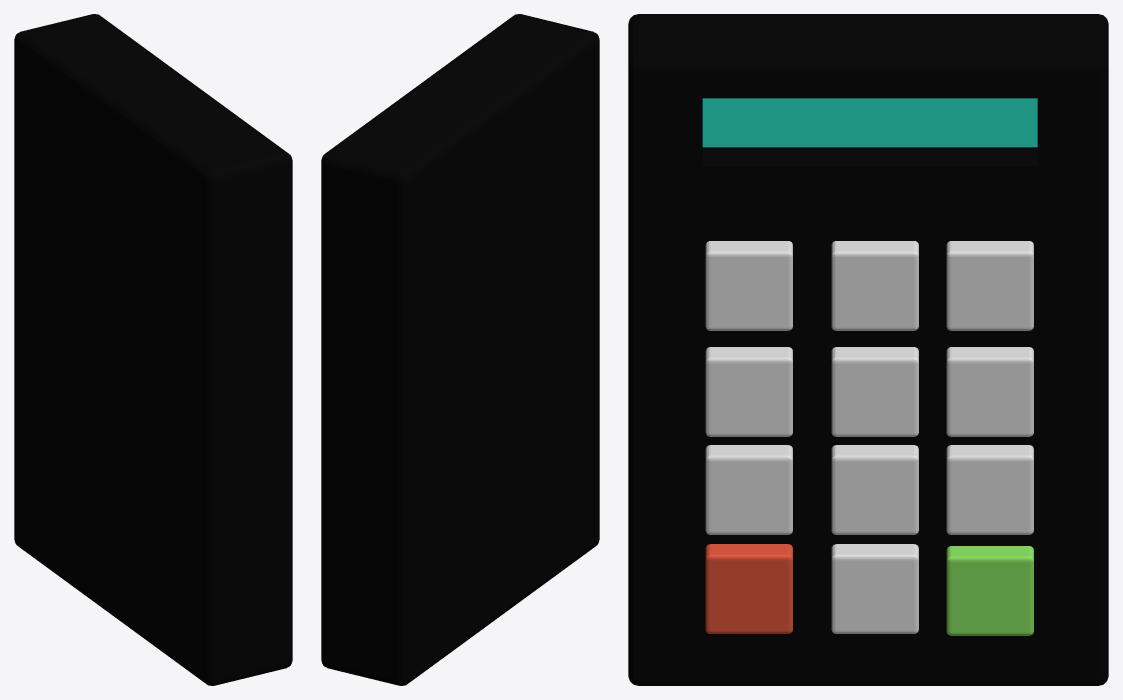
File: NumLock.fbx
The picture shows the model from 3 angles, left to right: view 1: azimuth 30°, elevation 25°; view 2: azimuth 150°, elevation 25°; view 3: azimuth 270°, elevation 25°; orthographic projection. The views are drawn at different scales.
Parts seen in each view (by area): view 1: Cube.001; view 2: Cube.001; view 3: Cube.001, Cube.014, Cube.003, Cube.010, Cube.015, Cube.004, Cube.006, Cube.007, Cube.009, Cube, Cube.002, Cube.005 (+1 smaller).
Boxes of the visible parts, x1,y1,x2,y2 form: Cube.001: (14,14,292,685); Cube.001: (321,14,599,685); Cube.001: (628,14,1108,685); Cube.014: (831,241,918,330); Cube.003: (831,347,918,436); Cube.010: (946,546,1033,635); Cube.015: (946,241,1033,330); Cube.004: (946,347,1033,436); Cube.006: (831,445,918,534); Cube.007: (946,445,1033,534); Cube.009: (831,544,918,633); Cube: (705,241,792,330); Cube.002: (705,347,792,436); Cube.005: (705,445,792,534).
Size of the model in its own units: 5.22 by 24.01 by 16.68.
